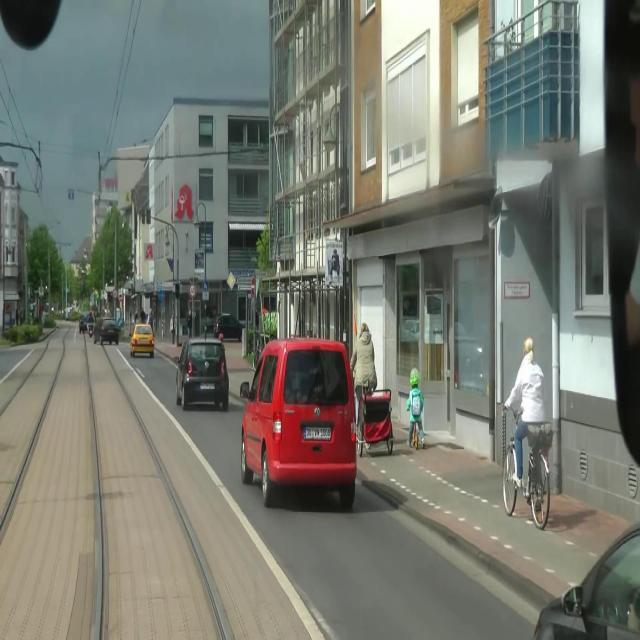danger: (76, 311, 126, 348)
rail: (76, 336, 263, 640)
